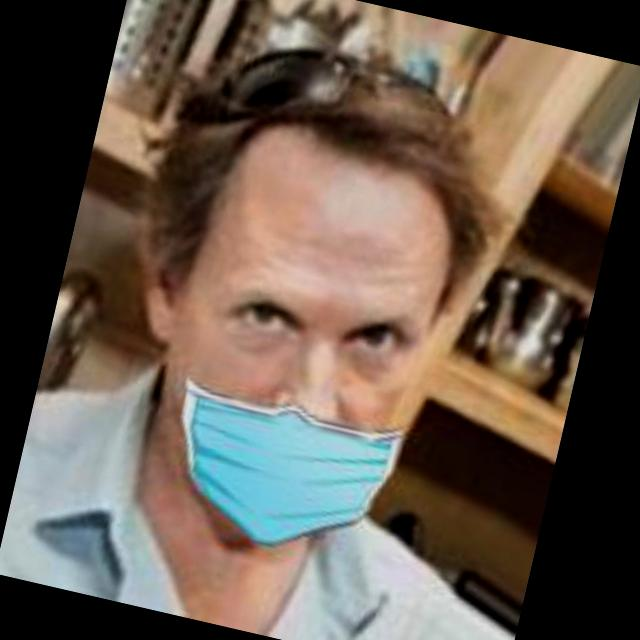suspicion: (93, 47, 521, 564)
